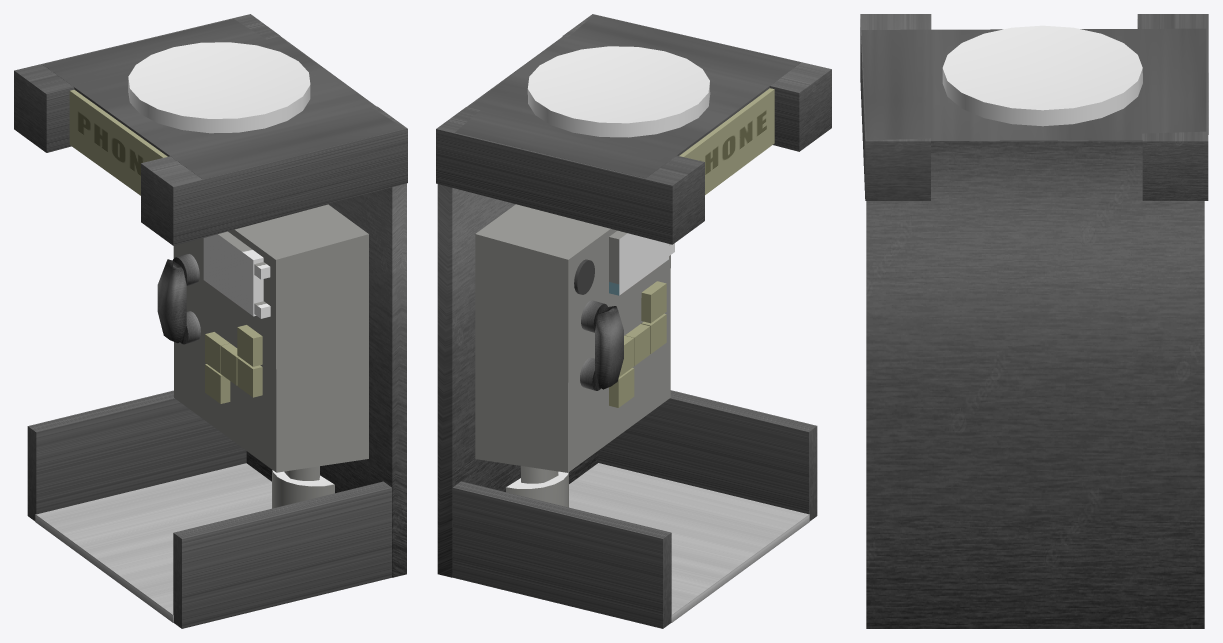
The model's file is Cabina.obj.
3 renders of one model, left to right at view 1: azimuth 30°, elevation 25°; view 2: azimuth 150°, elevation 25°; view 3: azimuth 270°, elevation 25°, orthographic. The views are drawn at different scales.
Parts seen in each view (by area): view 1: SirenaPequenaBaja1 polySurface11, SirenaPequenaBaja1 polySurface2, polySurface25 SirenaPequenaBaja1, SirenaPequenaBaja1 polySurface6, SirenaPequenaBaja1 polySurface18, SirenaPequenaBaja1 polySurface30, SirenaPequenaBaja1 polySurface27, SirenaPequenaBaja1 polySurface23, SirenaPequenaBaja1 polySurface13, SirenaPequenaBaja1 polySurface16, SirenaPequenaBaja1 polySurface24, SirenaPequenaBaja1 polySurface21 (+6 smaller); view 2: SirenaPequenaBaja1 polySurface11, SirenaPequenaBaja1 polySurface6, polySurface25 SirenaPequenaBaja1, SirenaPequenaBaja1 polySurface13, SirenaPequenaBaja1 polySurface2, SirenaPequenaBaja1 polySurface30, SirenaPequenaBaja1 polySurface27, SirenaPequenaBaja1 polySurface23, SirenaPequenaBaja1 polySurface18, SirenaPequenaBaja1 polySurface16, SirenaPequenaBaja1 polySurface24, SirenaPequenaBaja1 polySurface21 (+6 smaller); view 3: SirenaPequenaBaja1 polySurface27, polySurface25 SirenaPequenaBaja1, SirenaPequenaBaja1 polySurface23, SirenaPequenaBaja1 polySurface13, SirenaPequenaBaja1 polySurface18.
Boxes of the visible parts, bbox=[...] form: SirenaPequenaBaja1 polySurface11: bbox=[173, 204, 368, 472]; SirenaPequenaBaja1 polySurface2: bbox=[173, 481, 391, 628]; polySurface25 SirenaPequenaBaja1: bbox=[43, 19, 404, 237]; SirenaPequenaBaja1 polySurface6: bbox=[27, 390, 246, 521]; SirenaPequenaBaja1 polySurface18: bbox=[141, 106, 407, 245]; SirenaPequenaBaja1 polySurface30: bbox=[35, 463, 271, 622]; SirenaPequenaBaja1 polySurface27: bbox=[246, 36, 406, 577]; SirenaPequenaBaja1 polySurface23: bbox=[128, 42, 310, 133]; SirenaPequenaBaja1 polySurface13: bbox=[14, 14, 280, 152]; SirenaPequenaBaja1 polySurface16: bbox=[69, 89, 167, 195]; SirenaPequenaBaja1 polySurface24: bbox=[203, 231, 263, 316]; SirenaPequenaBaja1 polySurface21: bbox=[157, 259, 186, 343]; SirenaPequenaBaja1 polySurface11: bbox=[475, 204, 670, 472]; SirenaPequenaBaja1 polySurface6: bbox=[452, 481, 671, 628]; polySurface25 SirenaPequenaBaja1: bbox=[455, 15, 800, 178]; SirenaPequenaBaja1 polySurface13: bbox=[436, 107, 704, 244]; SirenaPequenaBaja1 polySurface2: bbox=[598, 390, 817, 521]; SirenaPequenaBaja1 polySurface30: bbox=[569, 463, 809, 622]; SirenaPequenaBaja1 polySurface27: bbox=[437, 41, 598, 577]; SirenaPequenaBaja1 polySurface23: bbox=[527, 46, 710, 137]; SirenaPequenaBaja1 polySurface18: bbox=[562, 14, 831, 151]; SirenaPequenaBaja1 polySurface16: bbox=[679, 88, 774, 194]; SirenaPequenaBaja1 polySurface24: bbox=[609, 230, 668, 295]; SirenaPequenaBaja1 polySurface21: bbox=[595, 306, 623, 389]; SirenaPequenaBaja1 polySurface27: bbox=[866, 140, 1204, 628]; polySurface25 SirenaPequenaBaja1: bbox=[861, 28, 1206, 141]; SirenaPequenaBaja1 polySurface23: bbox=[942, 25, 1142, 126]; SirenaPequenaBaja1 polySurface13: bbox=[1137, 14, 1208, 200]; SirenaPequenaBaja1 polySurface18: bbox=[860, 14, 931, 200].
Bounding box in the file's own units: 1.16 × 2.15 × 1.35.
9 materials, 9 textured.
